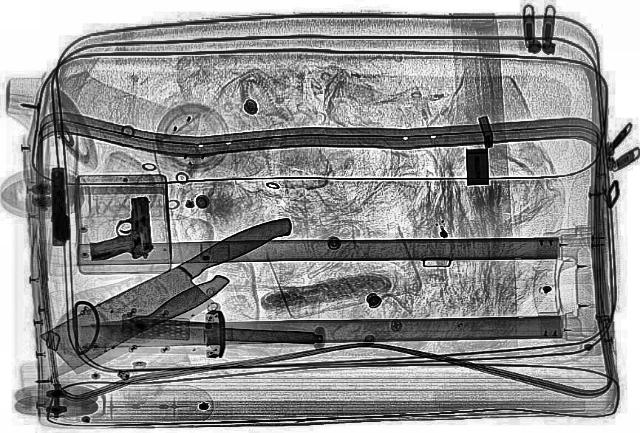Gun: (81, 195, 155, 261), (46, 168, 72, 244)
Knife: (28, 210, 330, 376), (34, 270, 236, 384), (88, 318, 316, 352)
